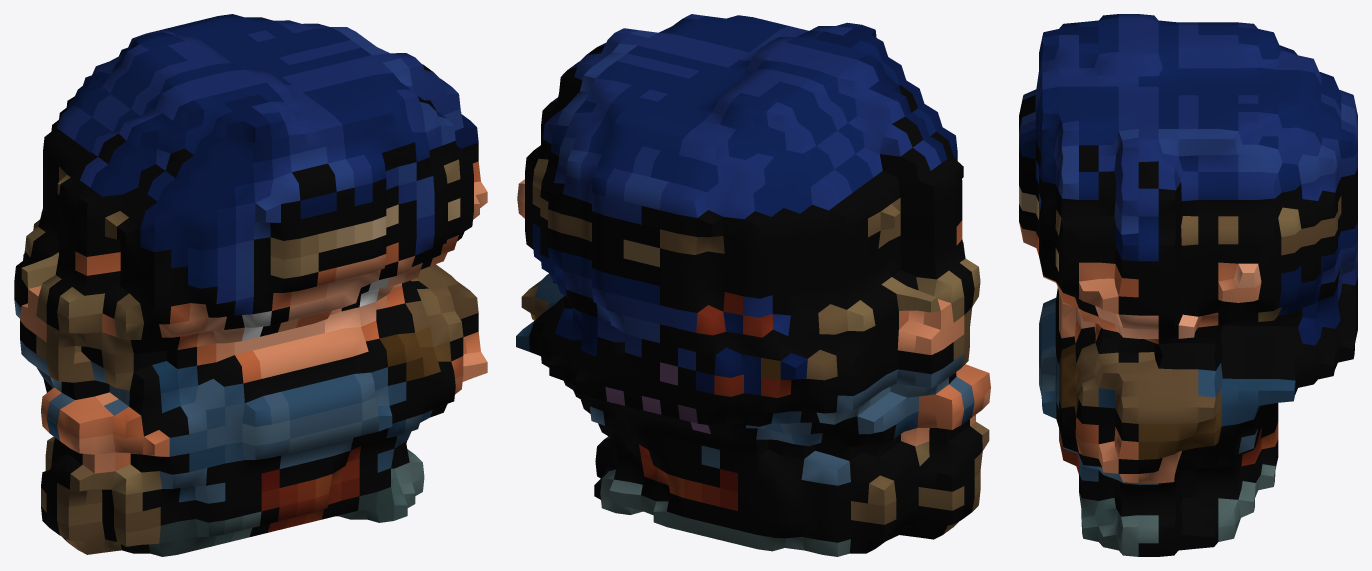
File: Icon_717_01.obj
3 views of the same model, side by side, from view 1: azimuth 30°, elevation 25°; view 2: azimuth 150°, elevation 25°; view 3: azimuth 270°, elevation 25° (orthographic). The views are drawn at different scales.
Size of the model in its own units: 2.3 by 2.4 by 1.7.
